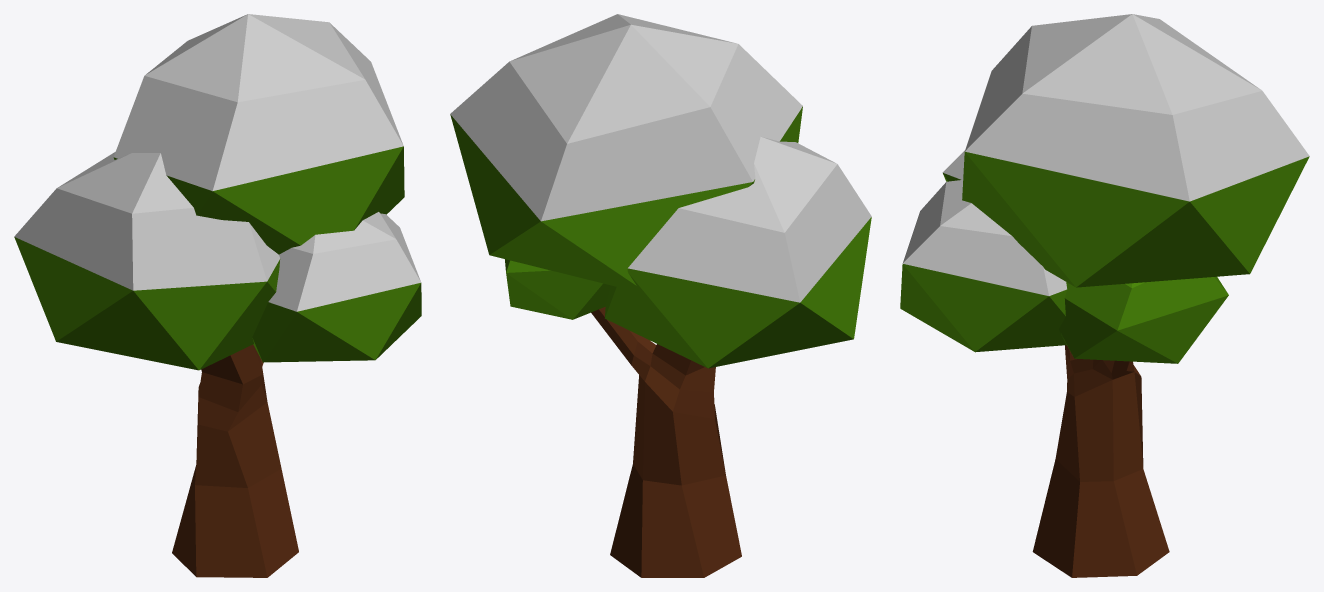
Rendered from T_Oak2PartialSnow.fbx.
3 views of the same model, side by side, from view 1: azimuth 30°, elevation 25°; view 2: azimuth 150°, elevation 25°; view 3: azimuth 270°, elevation 25° (orthographic). The views are drawn at different scales.
Parts seen in each view (by area): view 1: Icosphere; view 2: Icosphere; view 3: Icosphere.
Part boxes in pixels (<box>): Icosphere: <box>14,14,421,577</box>; Icosphere: <box>450,14,871,577</box>; Icosphere: <box>900,14,1309,577</box>.
Size of the model in its own units: 6.2 by 8.71 by 5.85.
